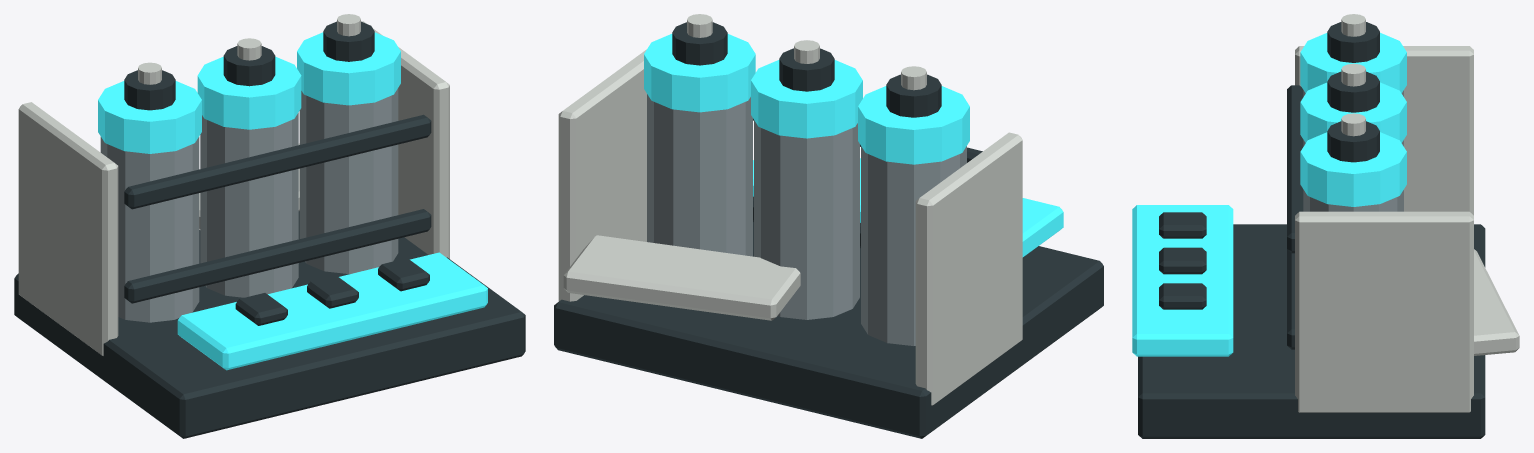
The model's file is electronics_2.glb.
3 views of the same model, side by side, from view 1: azimuth 30°, elevation 25°; view 2: azimuth 150°, elevation 25°; view 3: azimuth 270°, elevation 25° (orthographic). The views are drawn at different scales.
Visible parts, largest first — view 1: electronics_2; view 2: electronics_2; view 3: electronics_2.
Part boxes in pixels (left/top/right/bottom): electronics_2: left=14, top=14, right=525, bottom=438; electronics_2: left=554, top=14, right=1103, bottom=438; electronics_2: left=1132, top=14, right=1519, bottom=438.
Bounding box in the file's own units: 0.735 × 0.5625 × 0.6911.
